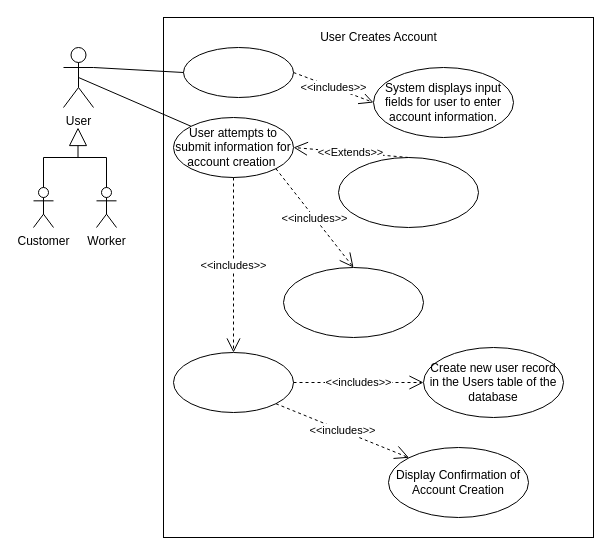
This 611x555 diagram has some shape labels left out. The centre of each missing label's shape, as x and y in pixels:
"Create Account" goes at point (233, 382).
"Display Invalid Input Error" goes at point (408, 192).
"Request to create account" goes at point (238, 72).
"Validate User Input" goes at point (353, 302).
